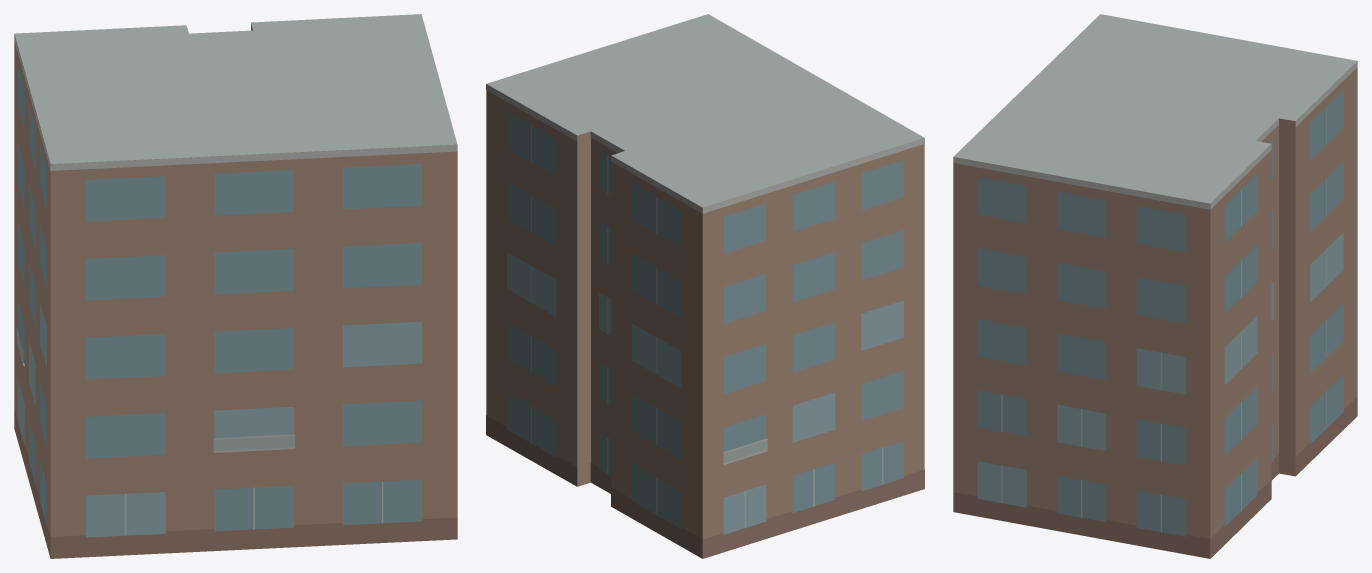
Rendered from survey-upis-32531309.glb.
3 renders of one model, left to right at view 1: azimuth 30°, elevation 25°; view 2: azimuth 150°, elevation 25°; view 3: azimuth 270°, elevation 25°, orthographic. The views are drawn at different scales.
Visible parts, largest first — view 1: survey-upis-32531309.tmp; view 2: survey-upis-32531309.tmp; view 3: survey-upis-32531309.tmp.
Part boxes in pixels (<box>): survey-upis-32531309.tmp: <box>14,14,457,558</box>; survey-upis-32531309.tmp: <box>486,14,924,558</box>; survey-upis-32531309.tmp: <box>953,14,1357,558</box>.
Bounding box in the file's own units: 16.16 × 14.1 × 14.55.
